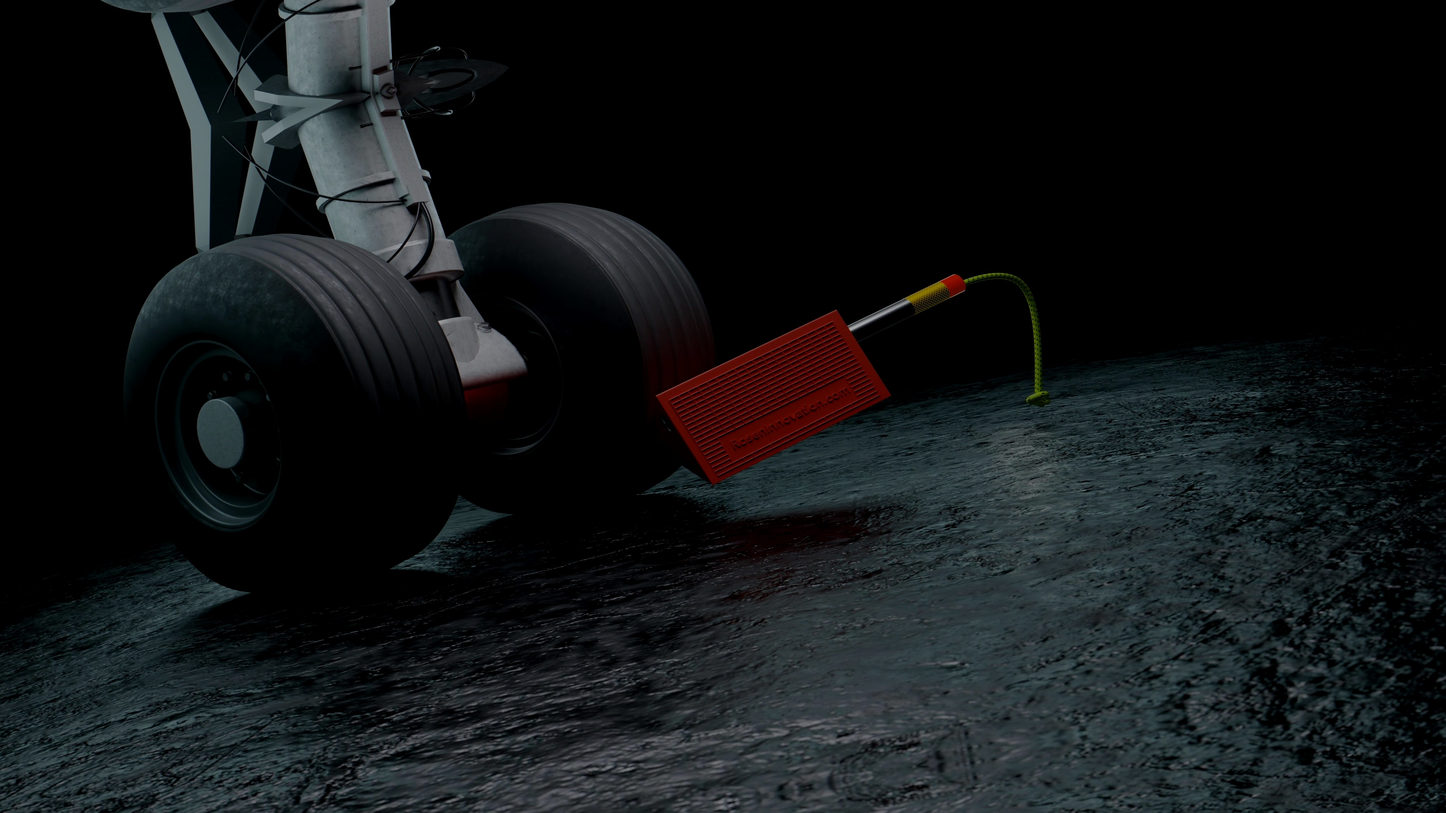chock: (628, 298, 906, 499)
wheel: (87, 199, 495, 623), (393, 169, 743, 537)
